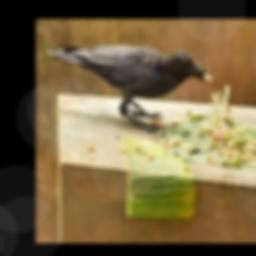Crow: (45, 44, 209, 123)
